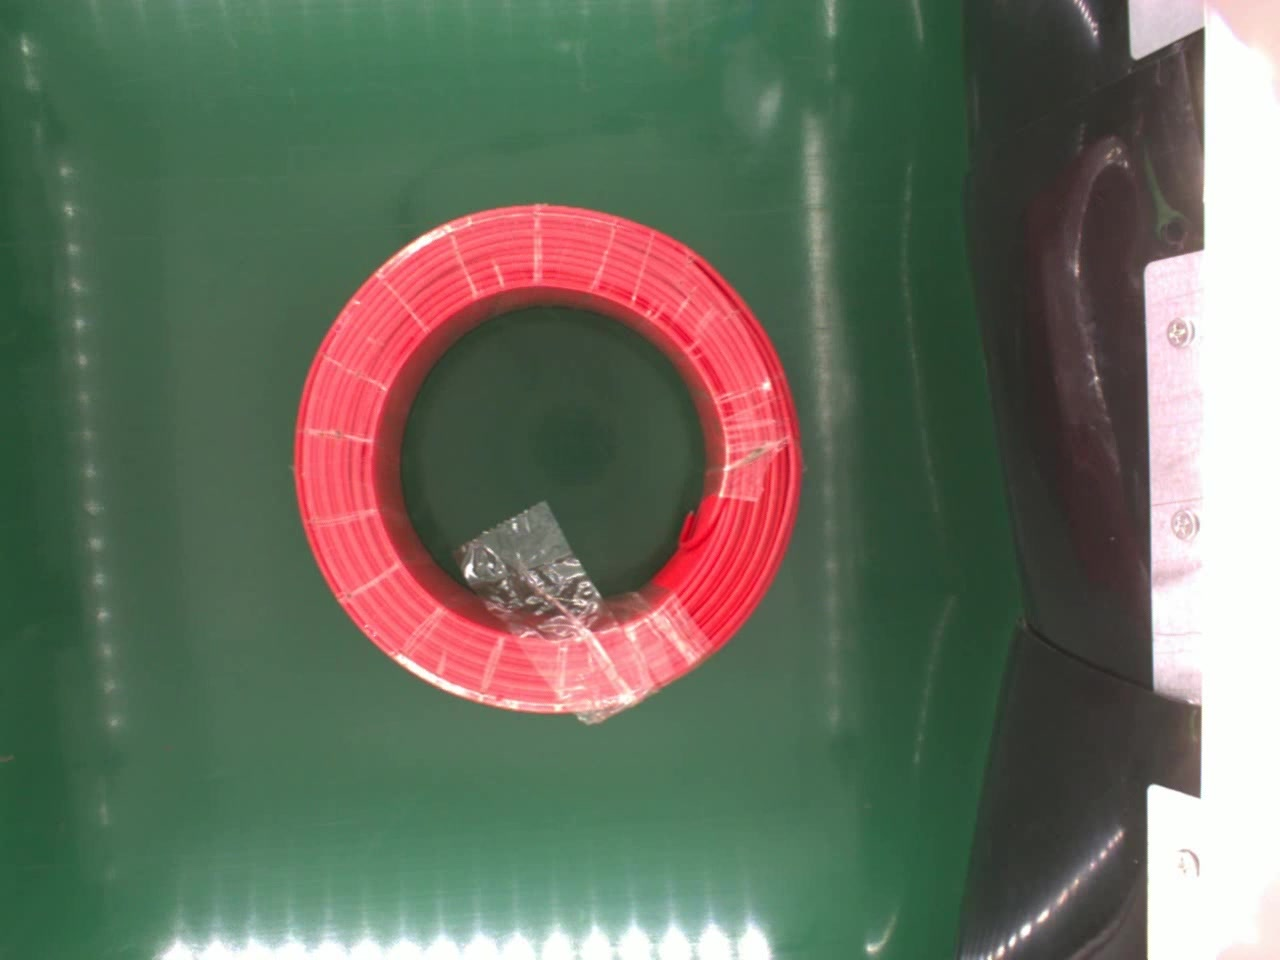red: (287, 199, 797, 711)
